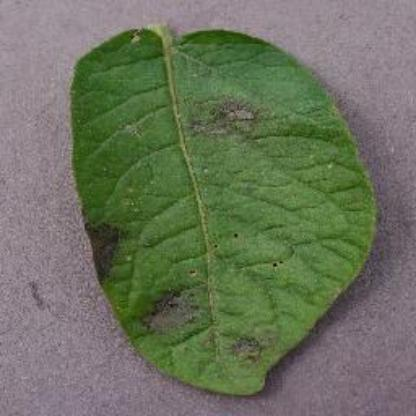Late-Blight: (56, 20, 400, 414)
